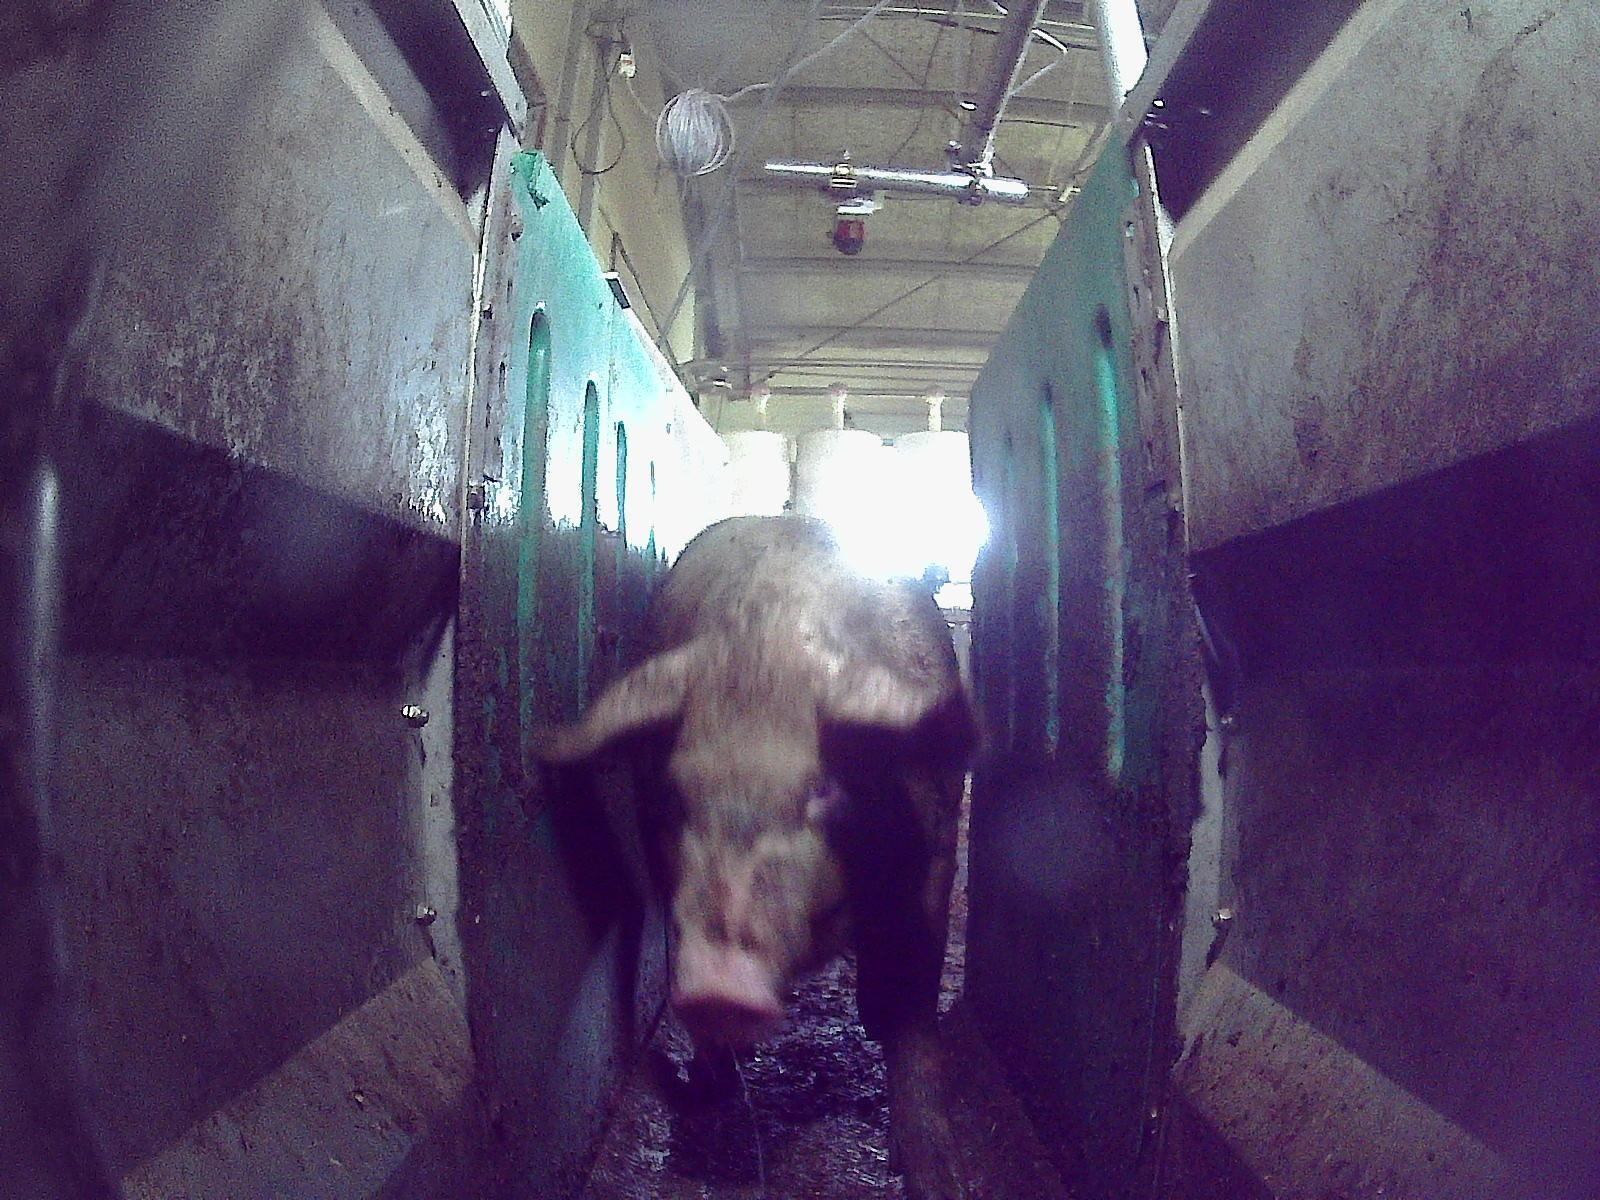Face: (660, 624, 885, 1037)
